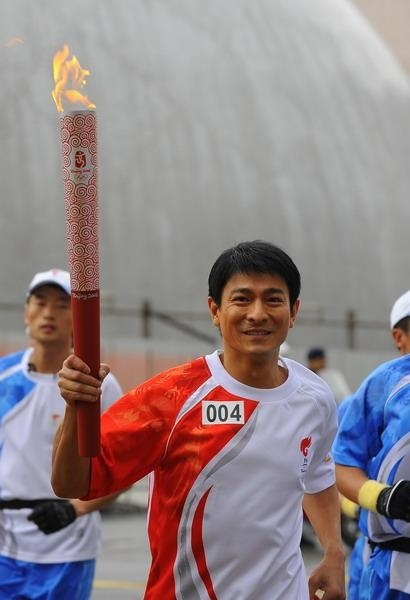fire: (48, 42, 95, 113)
